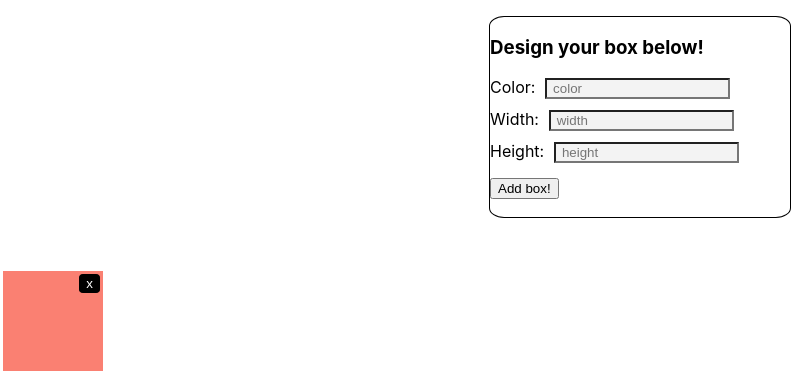
Scenario: should add a box to the page
This screenshot has width=808, height=388.
Type "green" into the field named "backgroundColor" at coordinates (638, 89), box [545,78,730,99]
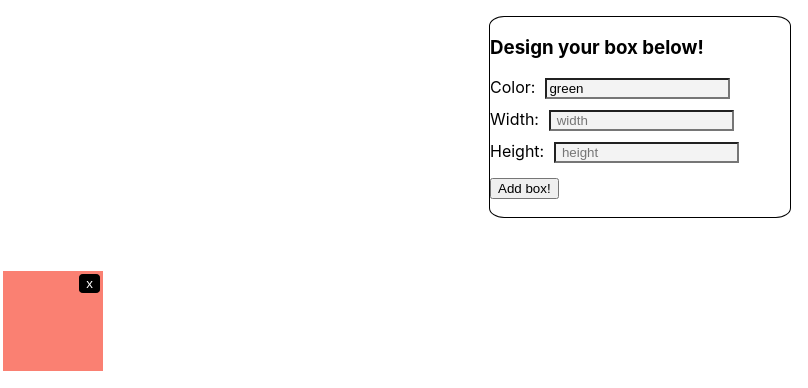
Type "100" into the number field named "width" at coordinates (642, 121), box [549,110,734,131]
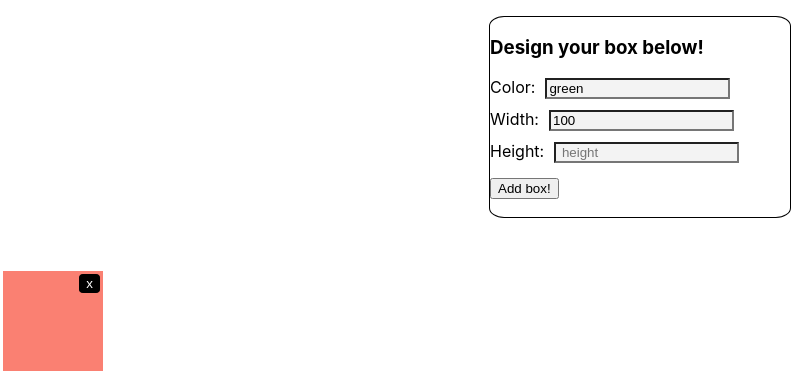
Type "100" into the number field named "height" at coordinates (647, 153), box [554,142,739,163]
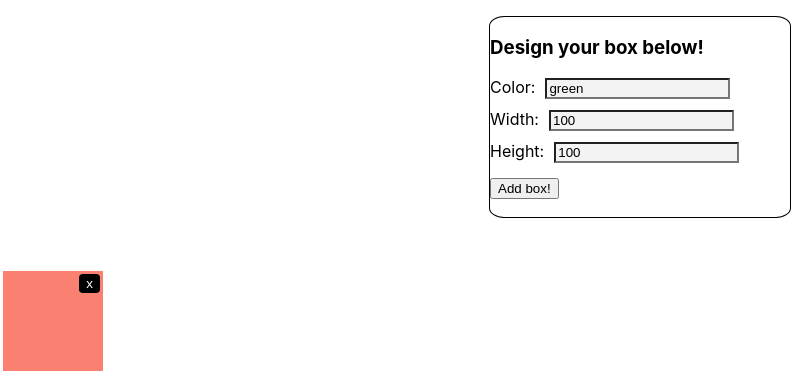
Submit the form with class "new-box-form", box [490,77,739,199]
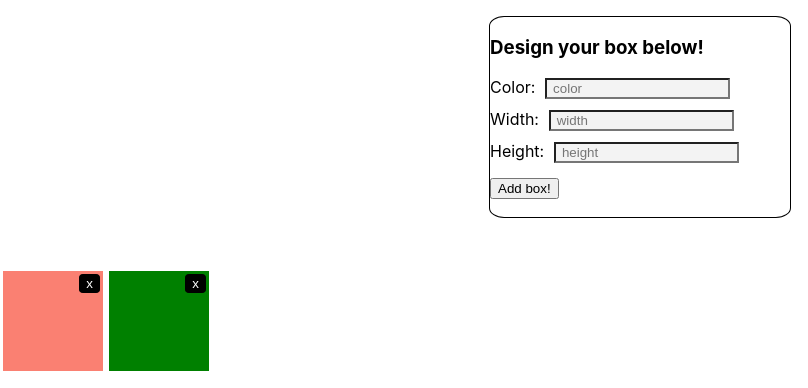
Check: the 2nd element showing "x" is shown, box [109,271,209,371]
